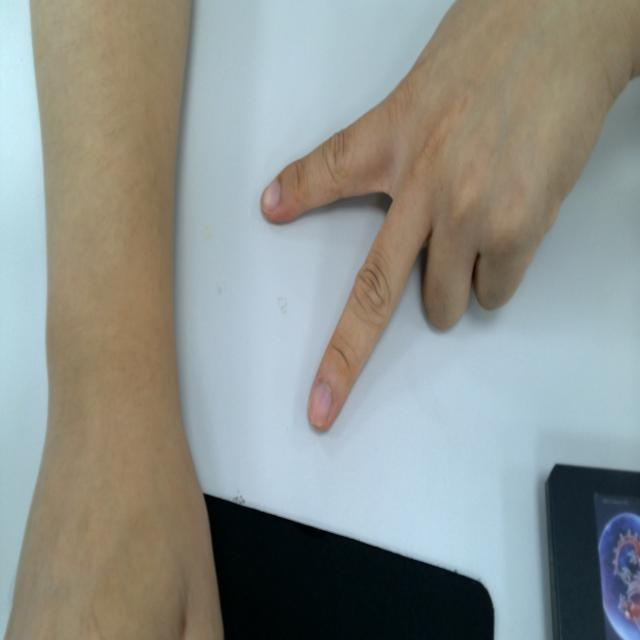Scissors: (253, 20, 546, 454)
